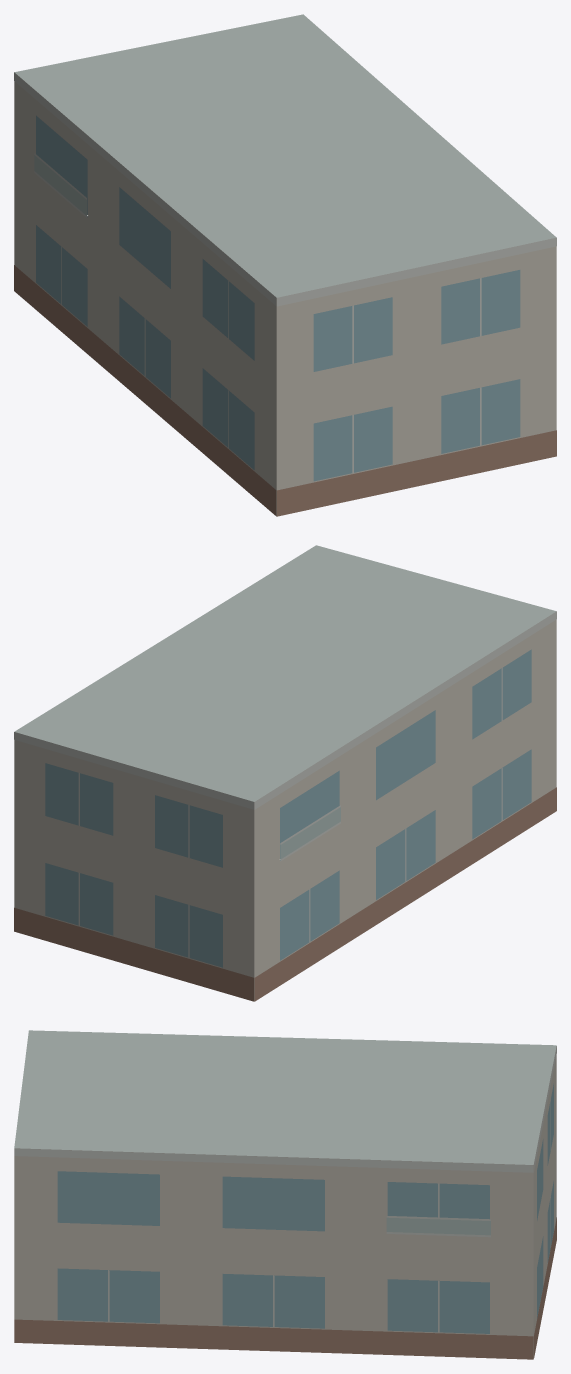
Rendered from survey-upis-32963682.glb.
3 renders of one model, top to bottom at view 1: azimuth 30°, elevation 25°; view 2: azimuth 150°, elevation 25°; view 3: azimuth 270°, elevation 25°, orthographic. The views are drawn at different scales.
Parts seen in each view (by area): view 1: survey-upis-32963682.tmp; view 2: survey-upis-32963682.tmp; view 3: survey-upis-32963682.tmp.
Boxes of the visible parts, x1,y1,x2,y2 form: survey-upis-32963682.tmp: (14, 14, 556, 516); survey-upis-32963682.tmp: (14, 545, 556, 1001); survey-upis-32963682.tmp: (14, 1030, 556, 1359).
Size of the model in its own units: 9.07 by 6.1 by 15.43.
